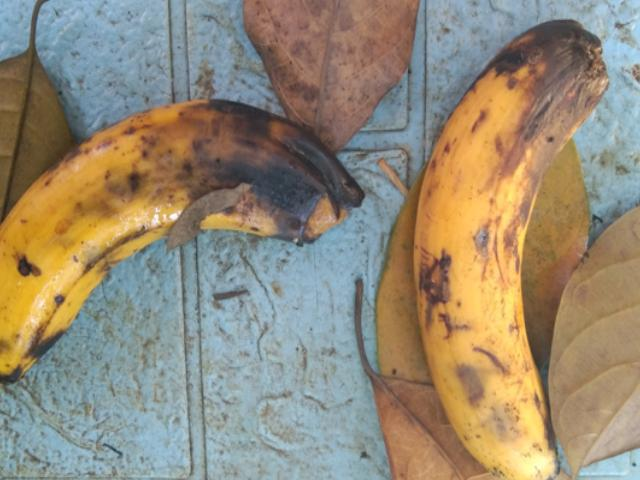overripe: (398, 186, 580, 479), (0, 121, 136, 391)
rotten: (95, 79, 376, 284), (438, 2, 625, 235)
